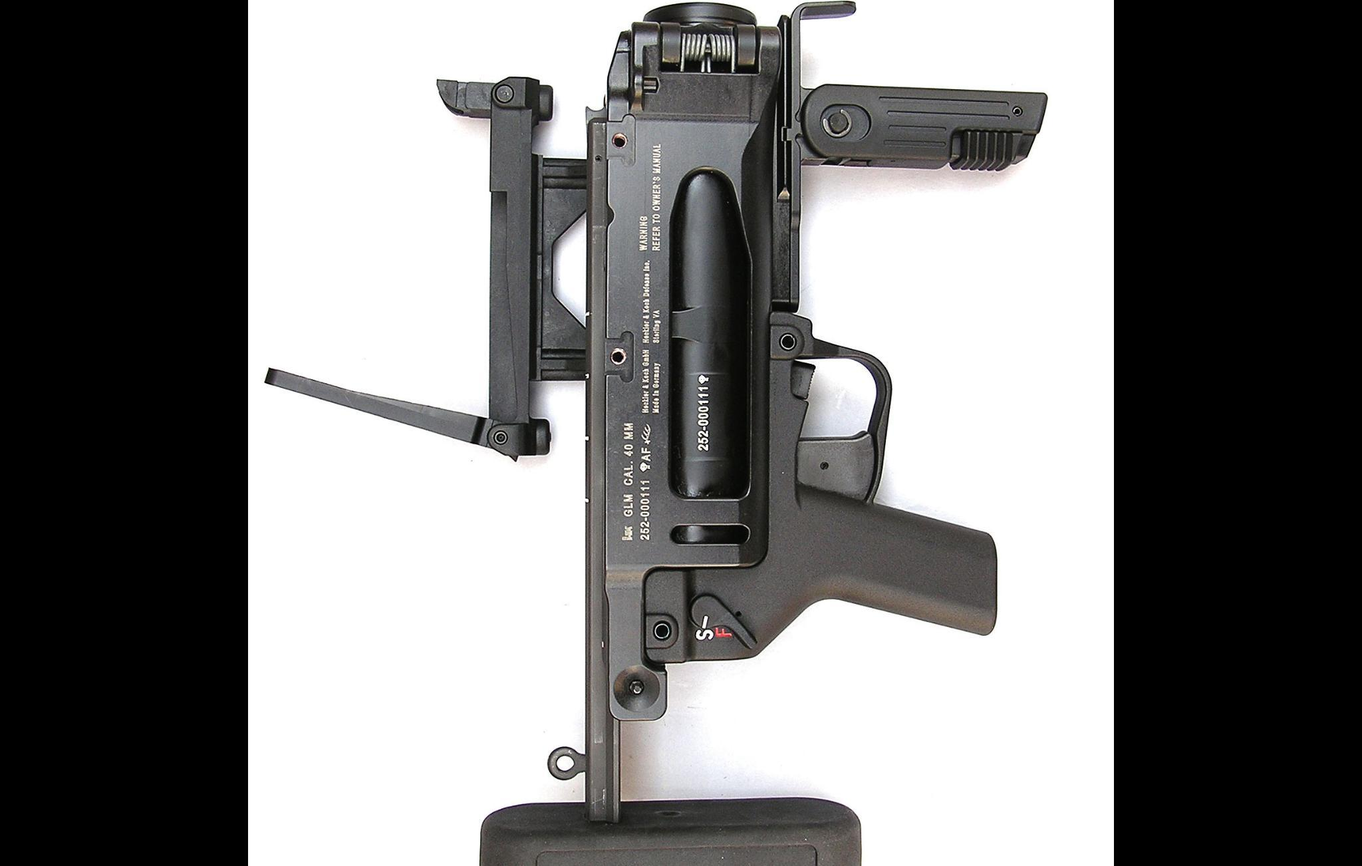gun: (435, 0, 1054, 866)
